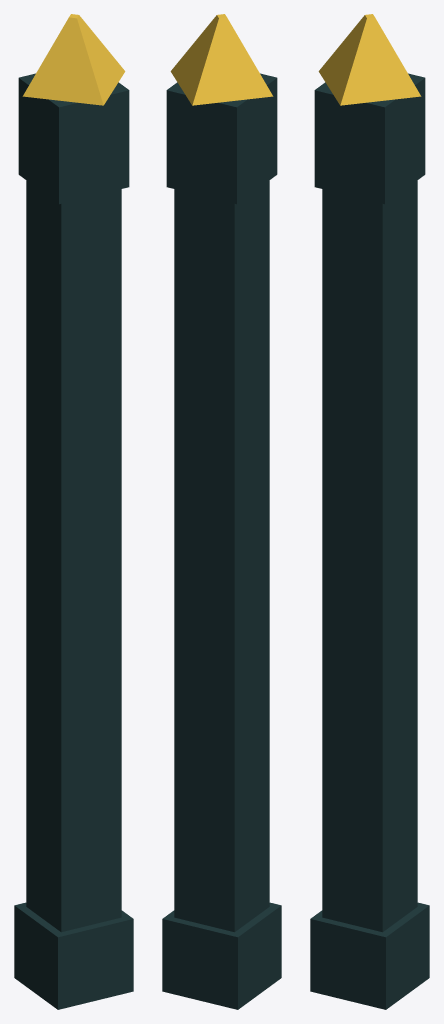
The model's file is bars_post_M.fbx.
3 views of the same model, side by side, from view 1: azimuth 30°, elevation 25°; view 2: azimuth 150°, elevation 25°; view 3: azimuth 330°, elevation 25° (orthographic).
Parts seen in each view (by area): view 1: bars_post_M; view 2: bars_post_M; view 3: bars_post_M.
Boxes of the visible parts, x1,y1,x2,y2 form: bars_post_M: [14, 14, 133, 1009]; bars_post_M: [162, 14, 281, 1009]; bars_post_M: [310, 14, 429, 1009].
Bounding box in the file's own units: 0.3 × 2.7 × 0.3.
